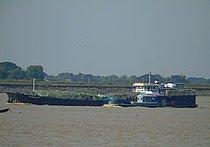Ship: (6, 80, 202, 111)
